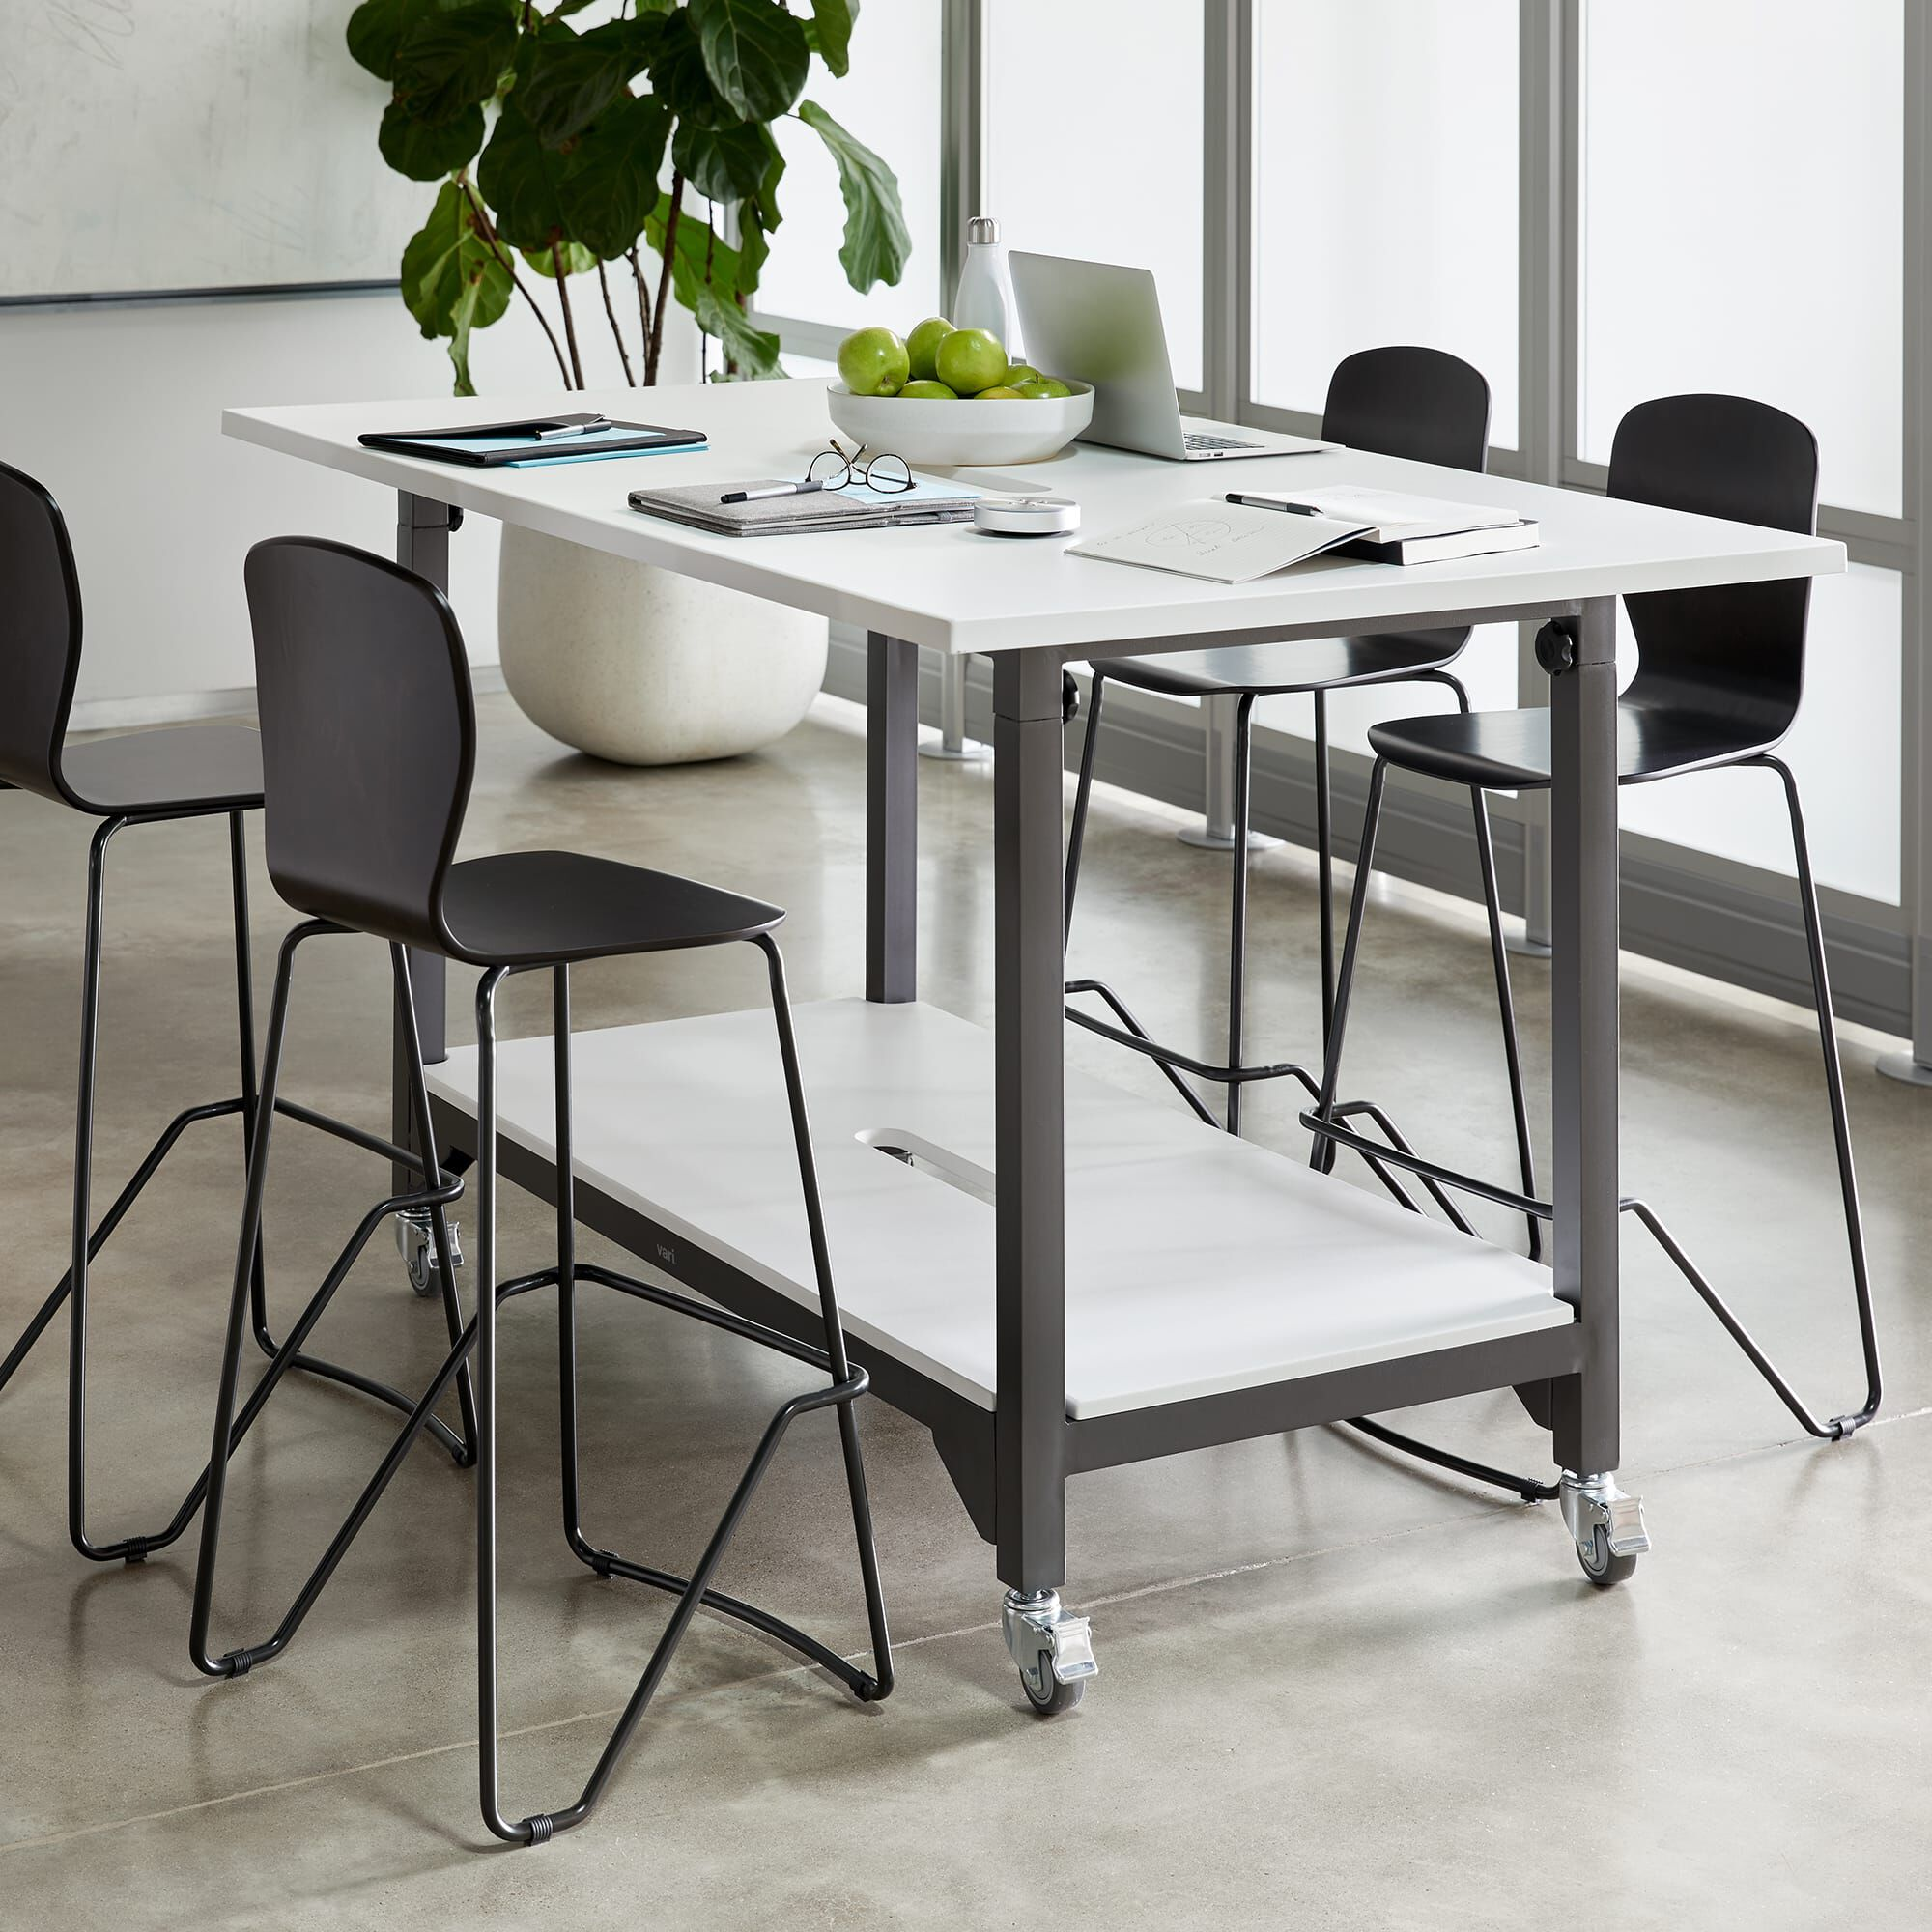conference_table: (217, 374, 1847, 1717)
